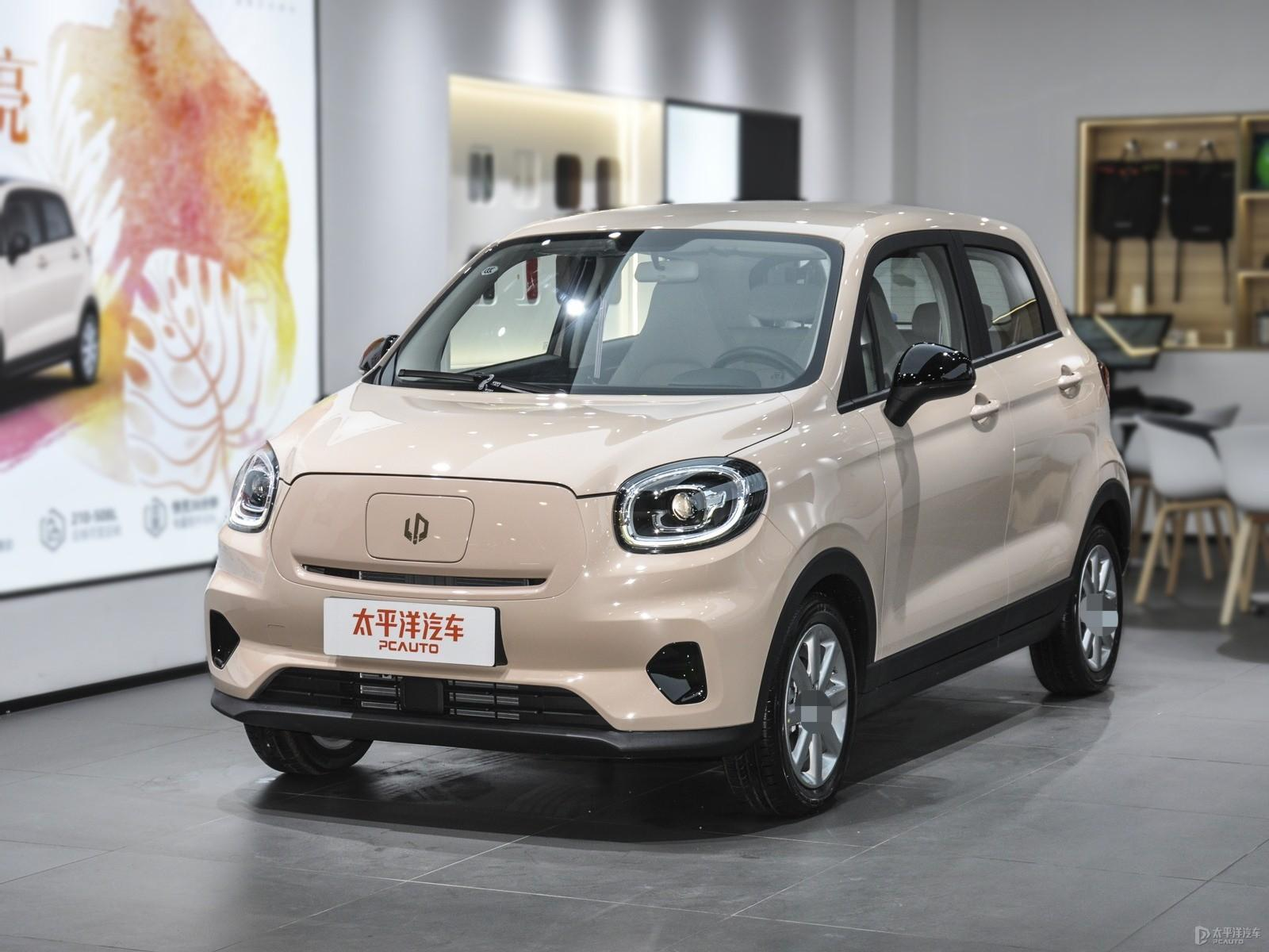LEAPMOTOR: (404, 513, 429, 544)
